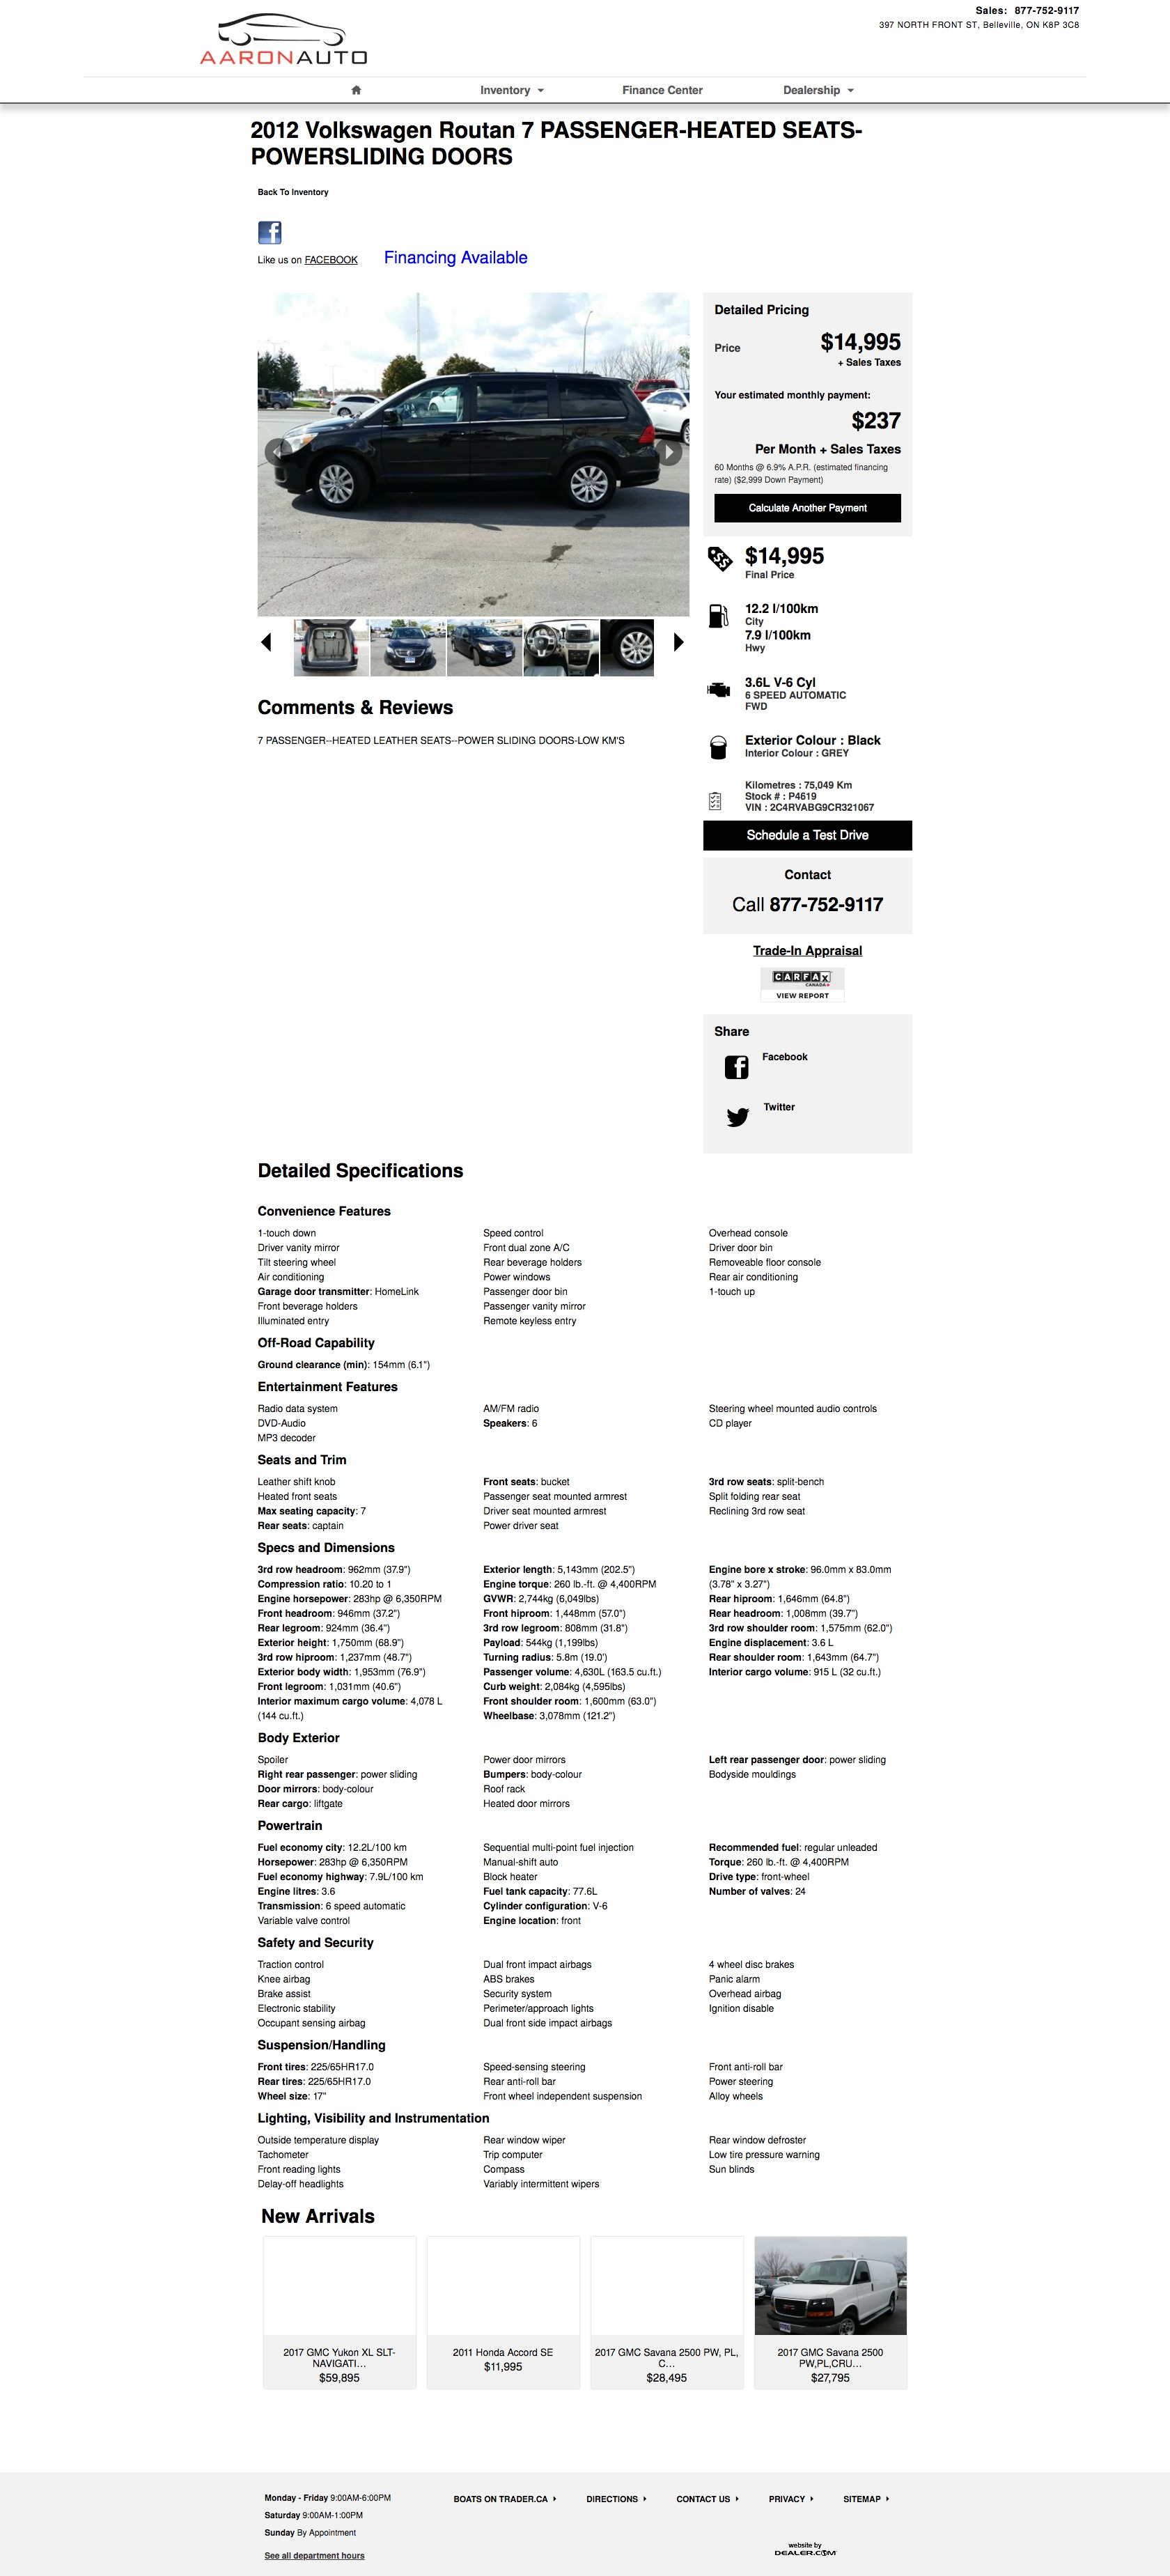car: (672, 633, 689, 655)
